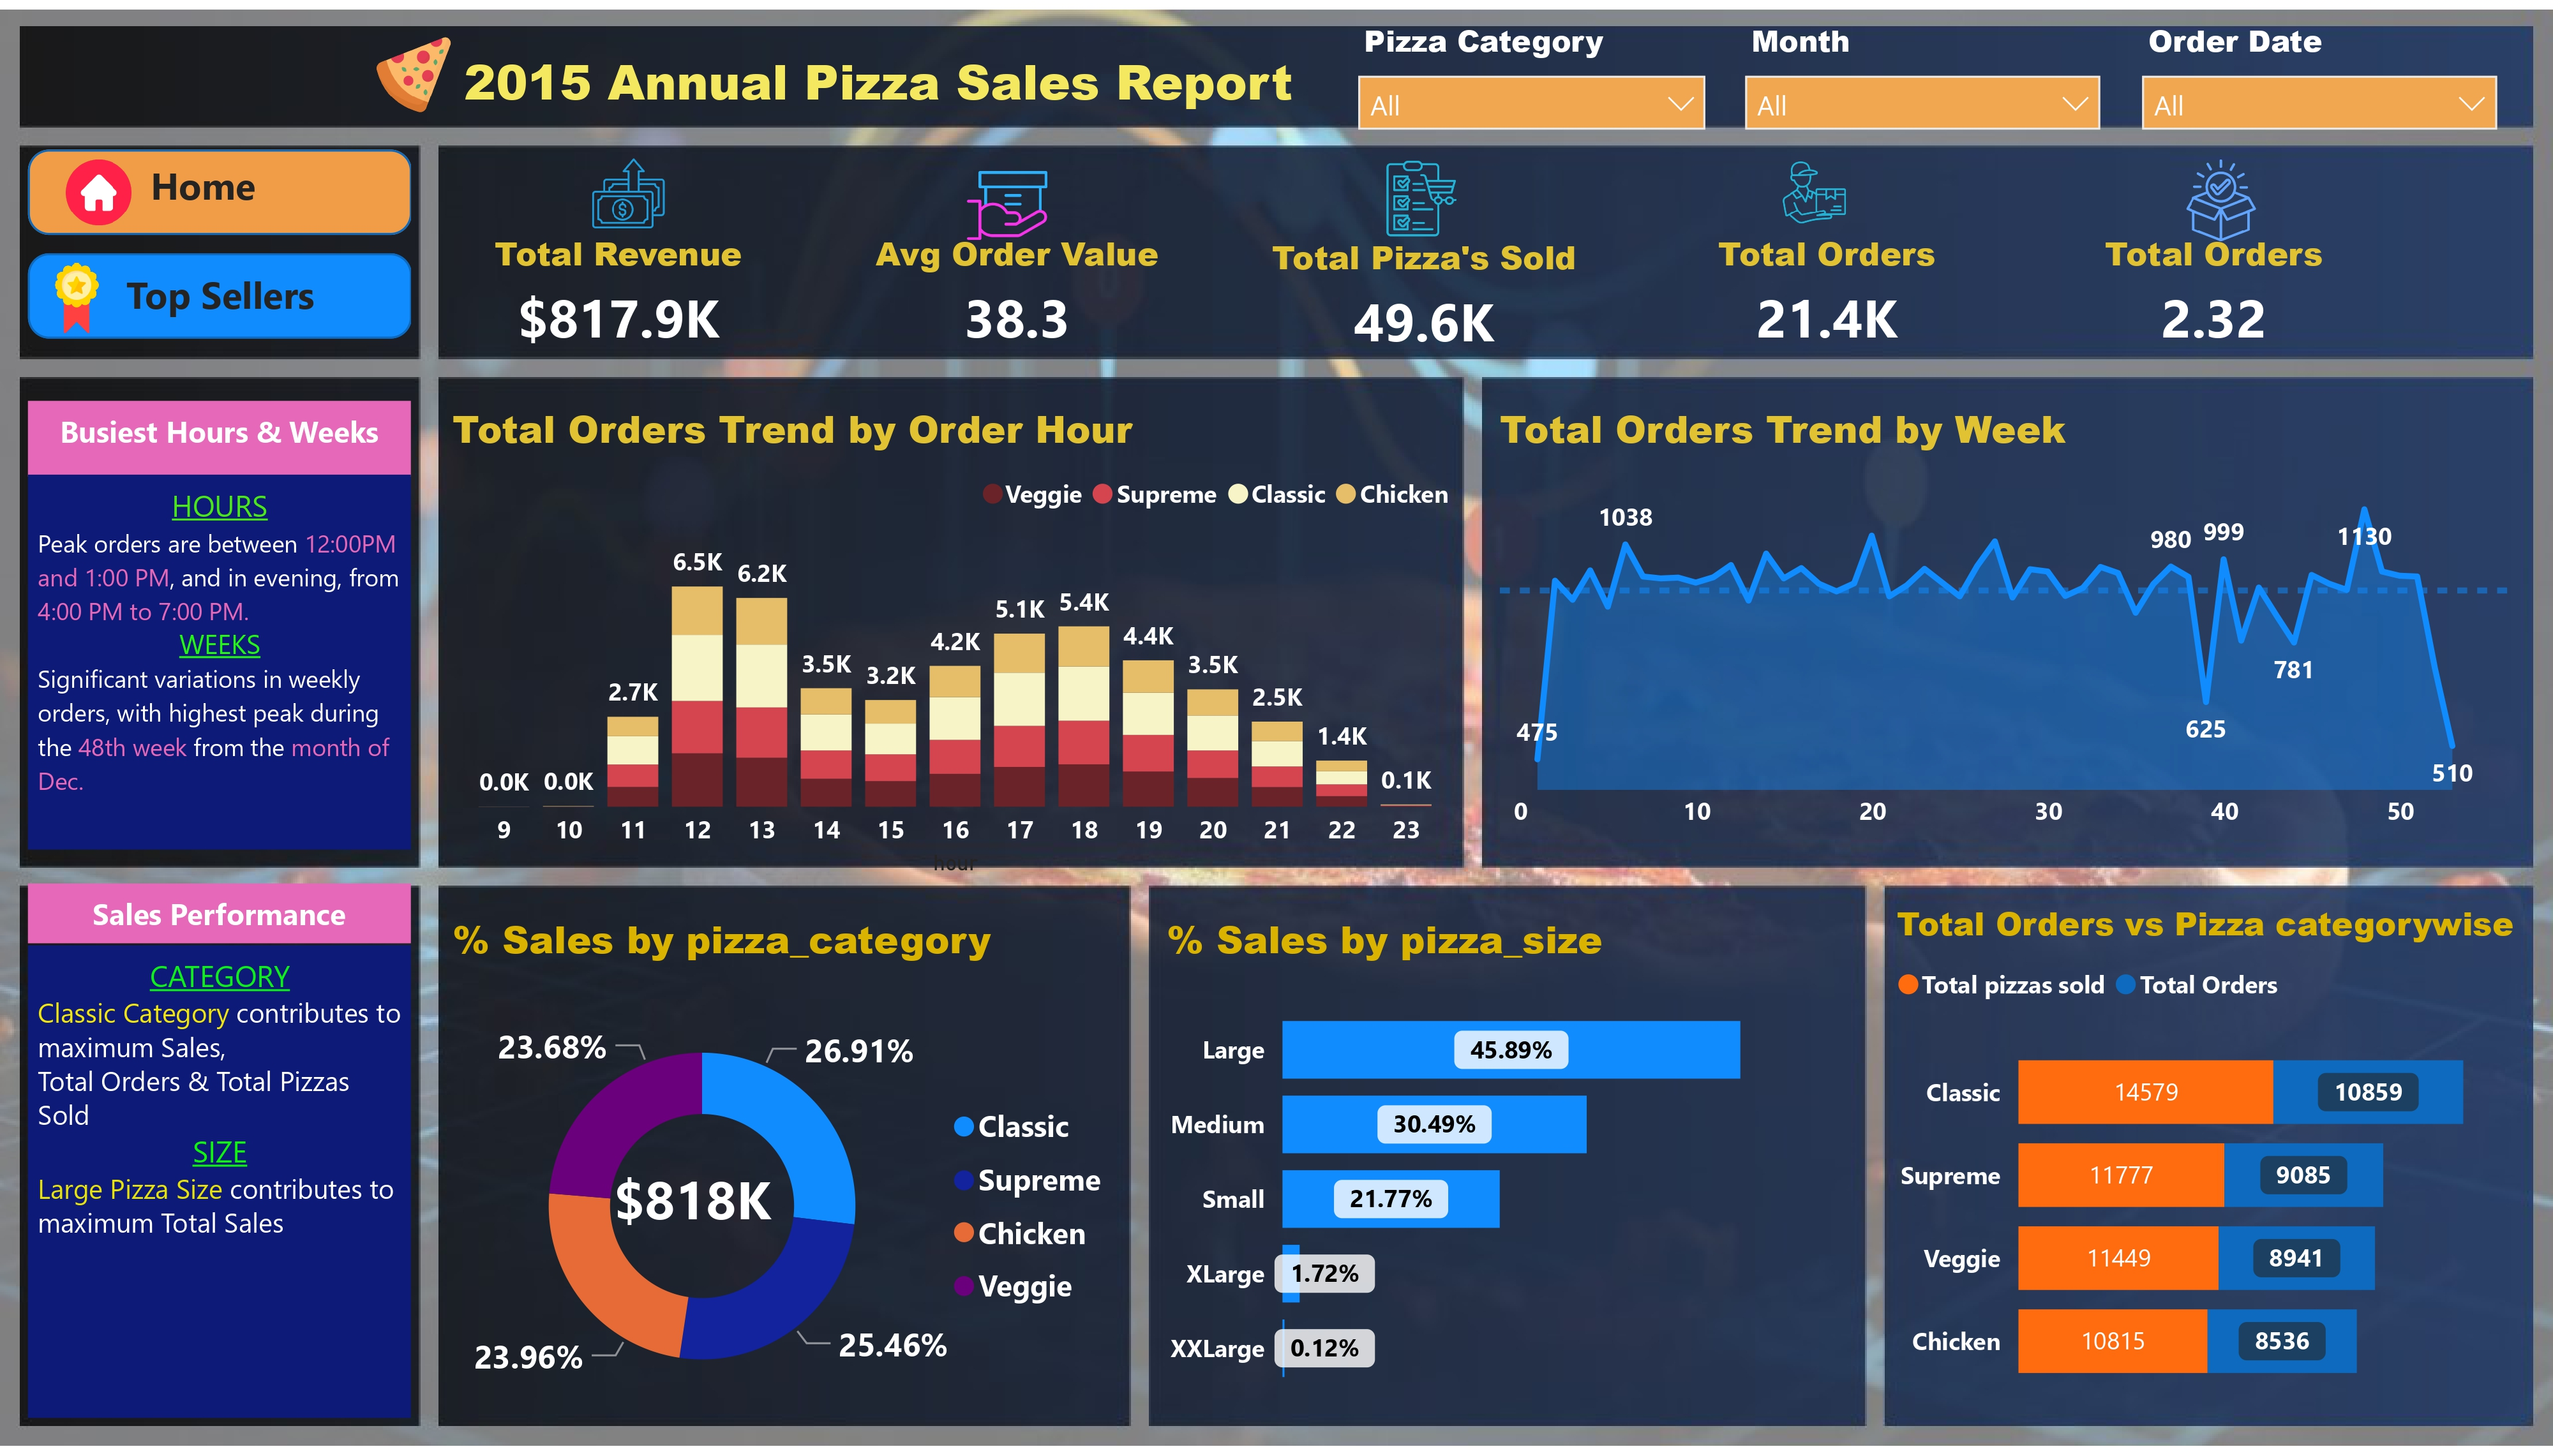

Layout of this report page (visuals, bound fields, positions):
{"tool":"powerbi","page":{"name":"Home","canvas":[1280,720],"ordinal":0},"visuals":[{"type":"shape","box":[222,70,188,106],"z":0},{"type":"textbox","box":[13.6,122.5,192.5,42.8],"z":1000},{"type":"card","title":"Total Revenue","fields":{"Values":["Sum(pizza_sales.total_price)"]},"box":[222,110,176,66],"z":2000},{"type":"image","box":[227.5,66.1,176.9,52.5],"z":3000},{"type":"shape","box":[410,70,188,106],"z":4000},{"type":"card","title":"Avg Order Value","fields":{"Values":["pizza_sales.avg_order"]},"box":[422,110,176,66],"z":5000},{"type":"card","title":"Total Pizza''s Sold","fields":{"Values":["Sum(pizza_sales.quantity)"]},"box":[626,112,176,66],"z":6000},{"type":"card","title":"Total Orders","fields":{"Values":["Count(pizza_sales.order_id)"]},"box":[828,110,176,66],"z":7000},{"type":"card","title":"Total Orders","fields":{"Values":["pizza_sales.avg_pizza_per_order"]},"box":[1022,110,176,66],"z":8000},{"type":"columnChart","title":"Total Orders Trend by Order Hour","fields":{"Category":["pizza_sales.hour"],"Series":["pizza_sales.pizza_category"],"Y":["CountNonNull(pizza_sales.order_id)"]},"box":[222,196,514,242],"z":9000},{"type":"areaChart","title":"Total Orders Trend by Week","fields":{"Category":["pizza_sales.week"],"Y":["CountNonNull(pizza_sales.pizza_id)"]},"box":[746.5,196.4,515.2,223.6],"z":10000},{"type":"donutChart","title":"% Sales by pizza_category","fields":{"Category":["pizza_sales.pizza_category"],"Y":["Sum(pizza_sales.total_price)"]},"box":[222,452,344,268],"z":11000},{"type":"barChart","title":"% Sales by pizza_size","fields":{"Category":["pizza_sales.pizza_size"],"Y":["Sum(pizza_sales.total_price)"]},"box":[580,452,350,254],"z":12000},{"type":"barChart","title":"Total Orders vs  Pizza categorywise","fields":{"Category":["pizza_sales.pizza_category"],"Y":["CountNonNull(pizza_sales.pizza_id)","Count(pizza_sales.order_id)"]},"box":[946,446,334,260],"z":13000},{"type":"textbox","box":[206.1,13.6,468.5,97.2],"z":14000},{"type":"slicer","fields":{"Values":["pizza_sales.pizza_category"]},"box":[670.7,0,194.4,62.2],"z":15000},{"type":"slicer","fields":{"Values":["pizza_sales.order_date.Variation.Date Hierarchy.Day"]},"box":[1064,0,198,62],"z":16000},{"type":"shape","title":"H","box":[13.6,70,192.5,42.8],"z":17000},{"type":"shape","title":"H","box":[13.6,122.5,192.5,42.8],"z":18000},{"type":"textbox","box":[62.2,70,79.7,40.8],"z":19000},{"type":"textbox","box":[49.3,125.2,123.2,41.1],"z":20000},{"type":"card","title":"Total Revenue","fields":{"Values":["Sum(pizza_sales.total_price)"]},"box":[295.6,550.1,102.6,94.4],"z":21000},{"type":"textbox","box":[14,196,192,38],"z":22000},{"type":"textbox","box":[13.6,233.3,192.5,188],"z":23000},{"type":"textbox","box":[14,438,192,30],"z":24000},{"type":"textbox","box":[13.6,468.5,192.5,237.2],"z":25000},{"type":"image","box":[178.9,7.8,56.4,48.6],"z":26000},{"type":"image","box":[13.6,70,71.9,42.8],"z":27000},{"type":"image","box":[13.6,122.5,48.6,44.7],"z":28000},{"type":"image","box":[390.8,70,227.5,56.4],"z":29000},{"type":"image","box":[626,70,173,48.6],"z":30000},{"type":"image","box":[841.8,70,134.1,42.8],"z":31000},{"type":"image","box":[1022.6,70,180.8,50.5],"z":32000},{"type":"slicer","fields":{"Values":["pizza_sales.order_date.Variation.Date Hierarchy.Month"]},"box":[865.1,0,198.3,62.2],"z":33000}]}

Visuals, with their boxes in screenshot pixels (x1, y1, x2, y2), scaled from the page's 1280x720 canvas onto the 2553x1456 screenshot:
shape: BBox(443, 142, 818, 356)
textbox: BBox(27, 248, 411, 334)
"Total Revenue" card: BBox(443, 223, 794, 356)
image: BBox(454, 134, 807, 240)
shape: BBox(818, 142, 1193, 356)
"Avg Order Value" card: BBox(842, 223, 1193, 356)
"Total Pizza''s Sold" card: BBox(1248, 227, 1599, 360)
"Total Orders" card: BBox(1652, 223, 2003, 356)
"Total Orders" card: BBox(2039, 223, 2390, 356)
"Total Orders Trend by Order Hour" columnChart: BBox(443, 396, 1468, 886)
"Total Orders Trend by Week" areaChart: BBox(1489, 397, 2517, 849)
"% Sales by pizza_category" donutChart: BBox(443, 914, 1129, 1455)
"% Sales by pizza_size" barChart: BBox(1157, 914, 1855, 1428)
"Total Orders vs  Pizza categorywise" barChart: BBox(1887, 902, 2552, 1428)
textbox: BBox(411, 27, 1345, 224)
slicer - pizza_sales.pizza_category: BBox(1338, 0, 1725, 126)
slicer - pizza_sales.order_date.Variation.Date Hierarchy.Day: BBox(2122, 0, 2517, 126)
"H" shape: BBox(27, 142, 411, 228)
"H" shape: BBox(27, 248, 411, 334)
textbox: BBox(124, 142, 283, 224)
textbox: BBox(98, 253, 344, 336)
"Total Revenue" card: BBox(590, 1113, 794, 1304)
textbox: BBox(28, 396, 411, 473)
textbox: BBox(27, 472, 411, 852)
textbox: BBox(28, 886, 411, 946)
textbox: BBox(27, 947, 411, 1427)
image: BBox(357, 16, 469, 114)
image: BBox(27, 142, 170, 228)
image: BBox(27, 248, 124, 338)
image: BBox(779, 142, 1233, 256)
image: BBox(1248, 142, 1594, 240)
image: BBox(1679, 142, 1947, 228)
image: BBox(2040, 142, 2400, 244)
slicer - pizza_sales.order_date.Variation.Date Hierarchy.Month: BBox(1725, 0, 2121, 126)
